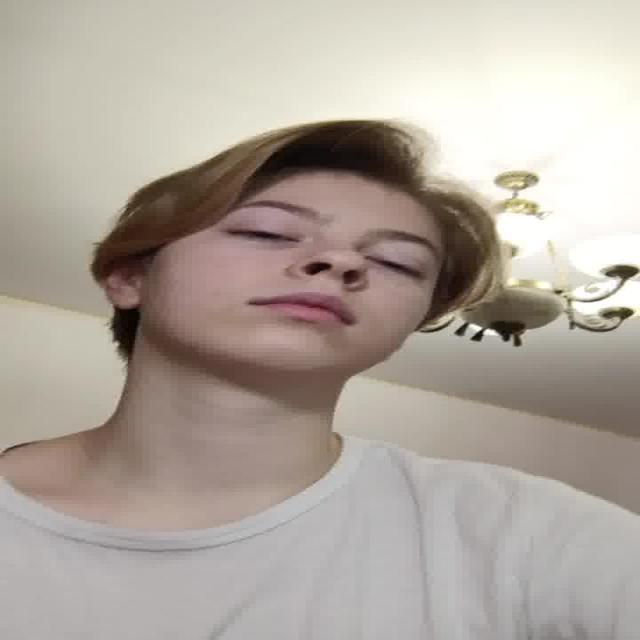earlobe: (107, 291, 143, 311)
eye: (363, 252, 429, 279), (222, 225, 302, 245)
nose: (289, 269, 360, 302)
wholeear: (105, 267, 143, 311)
